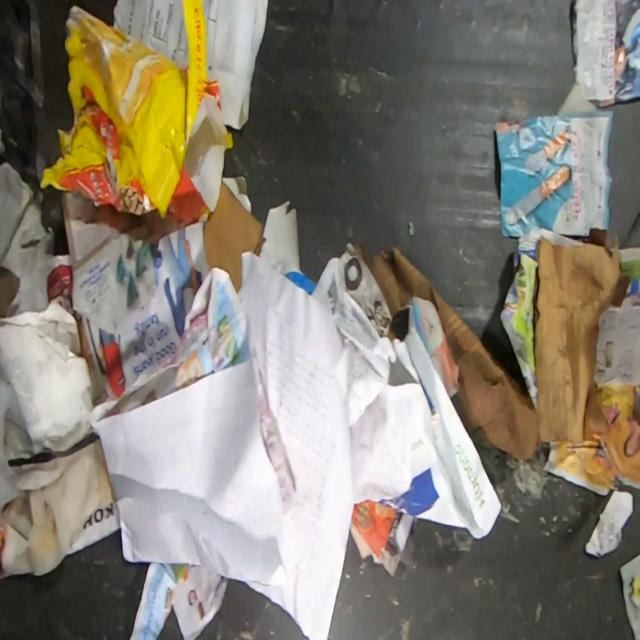cardboard: (356, 245, 542, 462), (203, 180, 264, 294)
soft_plastic: (39, 0, 234, 229)
